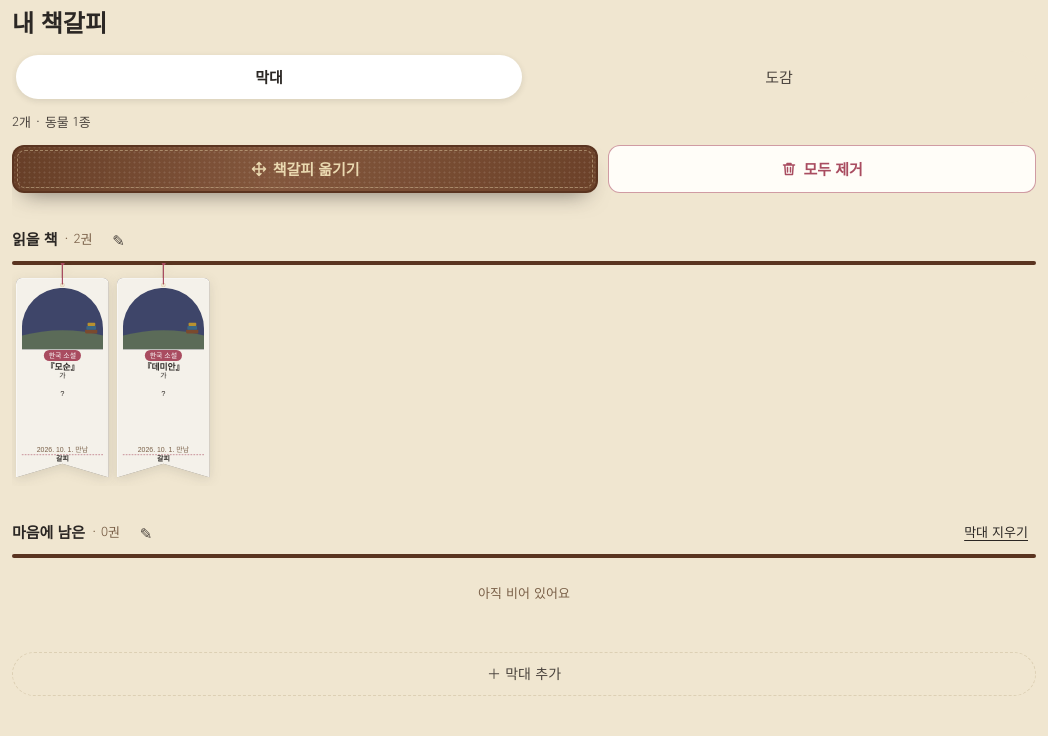
Library (S-09) › [막대 | 도감] switches between the rods and the 도감 (도감 v1 시안 ①)
Click the button "도감" at (779,77), box top-left (526, 55), bottom-right (1032, 99)
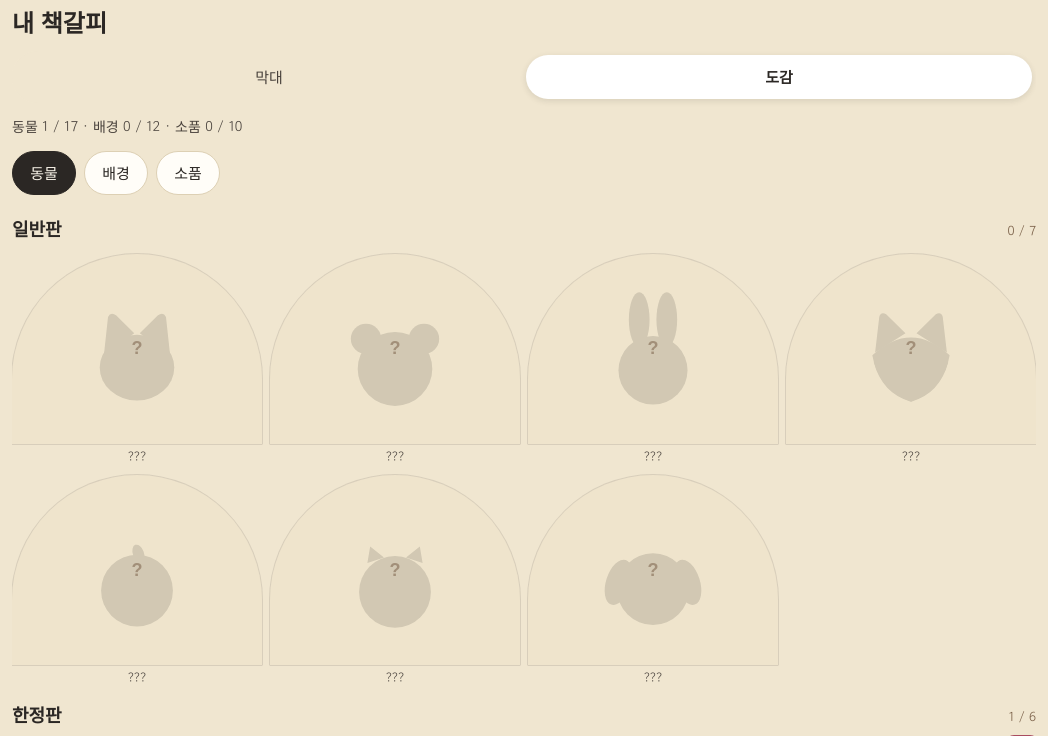
Expected: the text "동물 1 / 17 · 배경 0 / 12 · 소품 0 / 10" is shown, top-left (12, 116), bottom-right (242, 136)
Expected: the text "2개 · 동물 1종" is gone
Click the button "막대" at (269,77), box top-left (16, 55), bottom-right (522, 99)
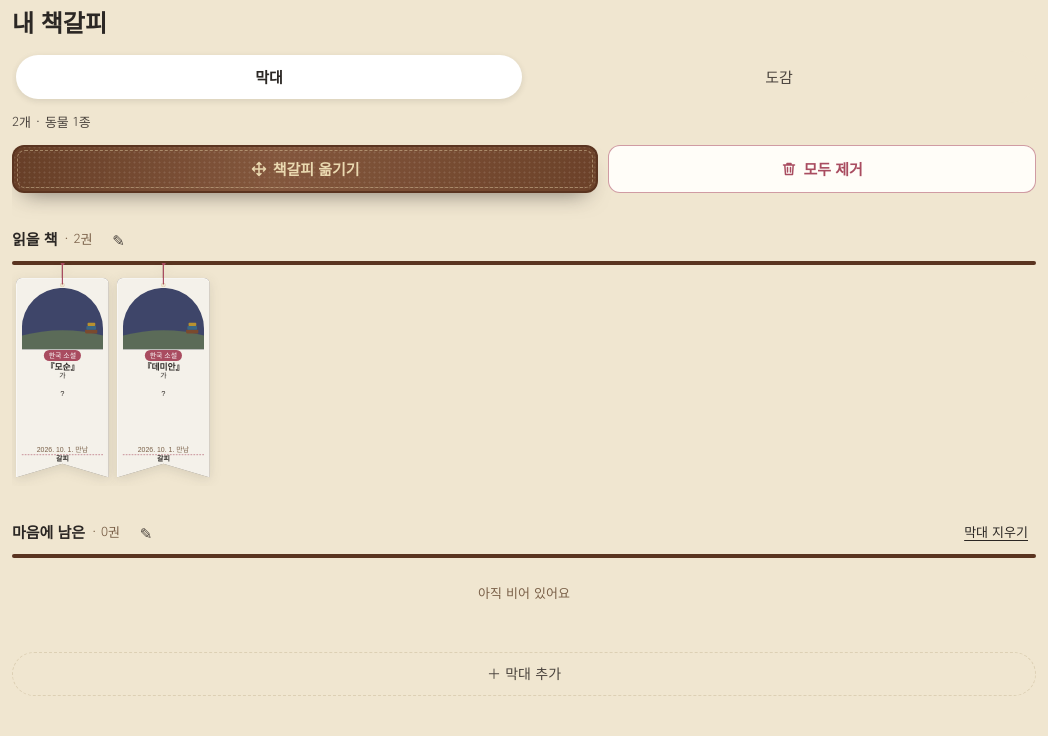
Expected: the text "2개 · 동물 1종" is shown, top-left (12, 112), bottom-right (91, 131)
